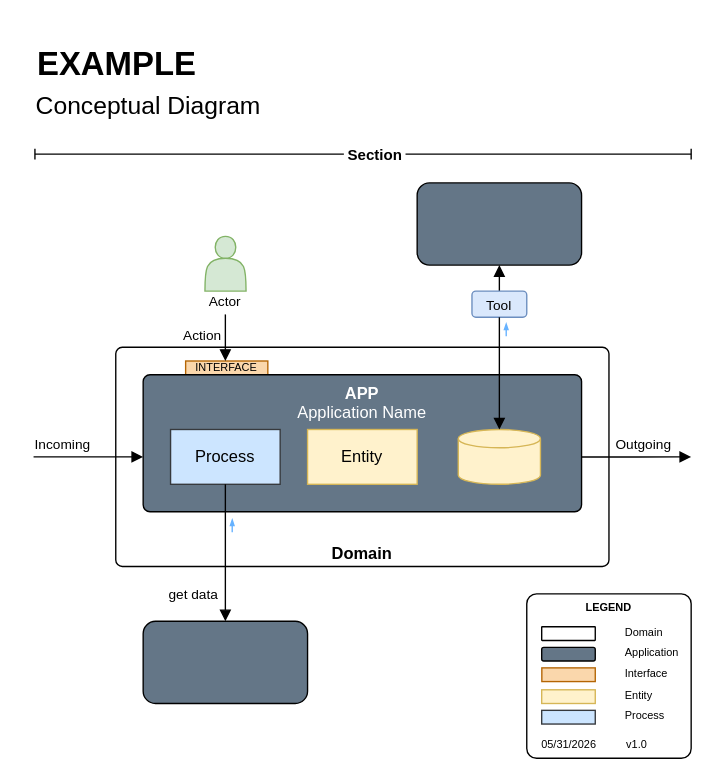
Some shapes in this 727 by 782 pixel diagram are drawn without their labels. The centre of each missing label's shape, as x and y in pixels:
"DB" belongs at (498,456).
"DOWNSTREAM Application Name" belongs at (499,223).
"UPSTREAM Application Name" belongs at (225,661).
